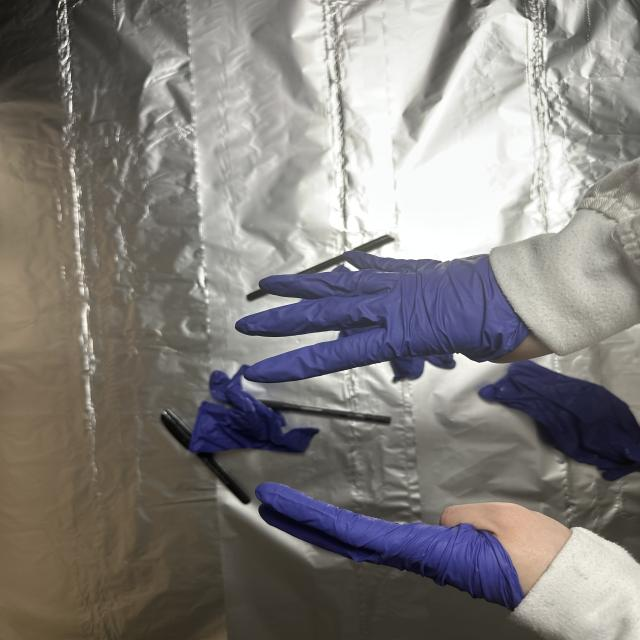glove_partial: (251, 462, 574, 608), (230, 248, 567, 381)
